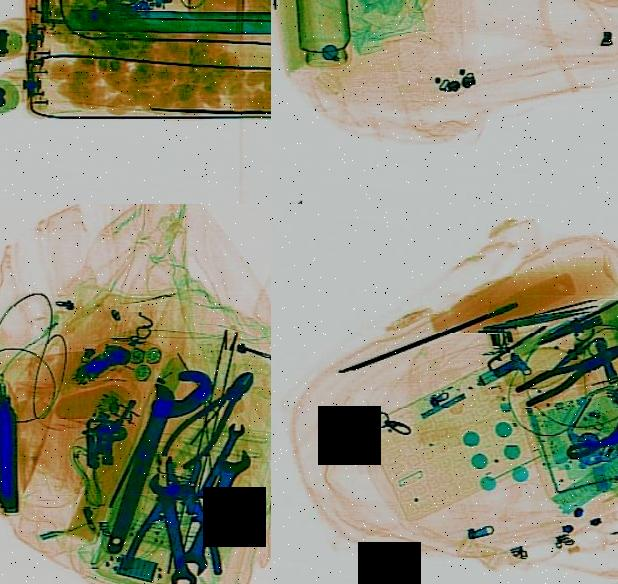Pliers: (126, 446, 234, 580), (160, 352, 266, 483), (515, 326, 618, 408)
Wrench: (174, 434, 256, 584), (148, 466, 202, 584), (194, 416, 250, 515)
